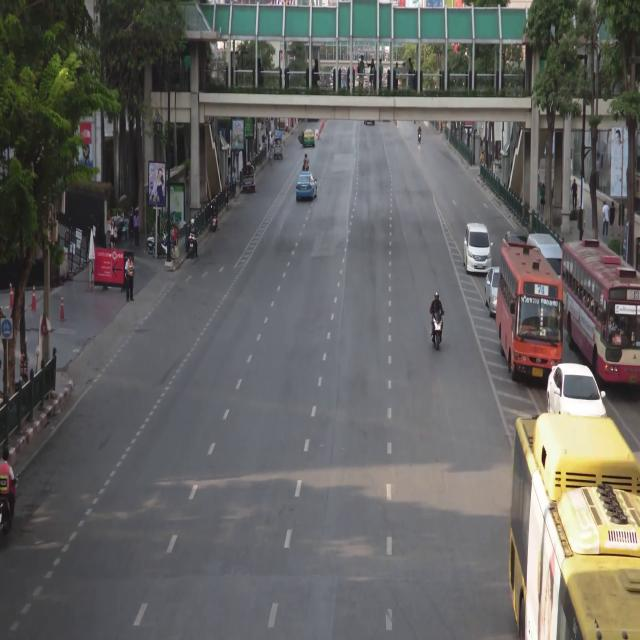bus: (512, 415, 639, 640), (562, 242, 640, 392), (499, 241, 562, 384)
car: (549, 369, 606, 419), (528, 232, 563, 276), (465, 222, 492, 271), (486, 266, 499, 315), (242, 164, 256, 191), (273, 135, 283, 160)
pedestrian: (125, 252, 134, 303), (601, 199, 609, 239), (133, 209, 139, 248), (619, 199, 625, 238), (571, 177, 578, 209), (609, 200, 615, 237), (110, 219, 116, 250), (232, 165, 237, 199), (540, 183, 545, 213), (226, 175, 230, 204), (270, 131, 274, 157), (262, 133, 265, 145), (266, 123, 268, 137)
taxi: (296, 172, 317, 200), (304, 129, 315, 147)
